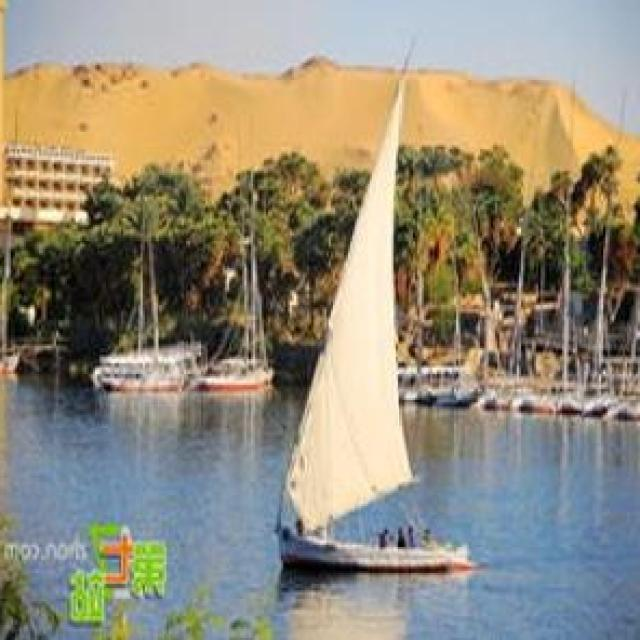sailboat: (277, 53, 462, 597)
